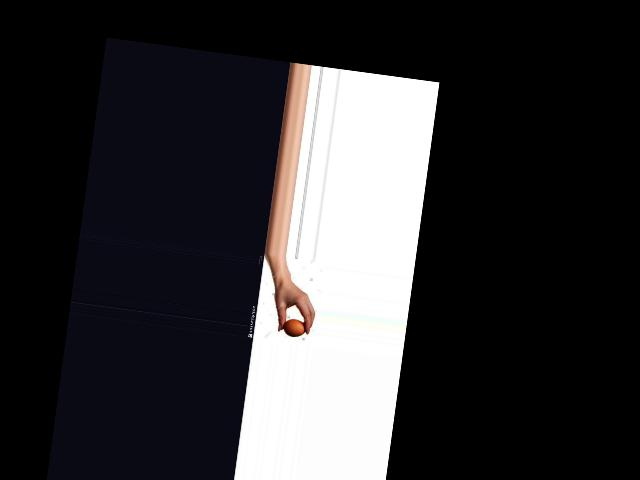egg: (282, 317, 306, 337)
